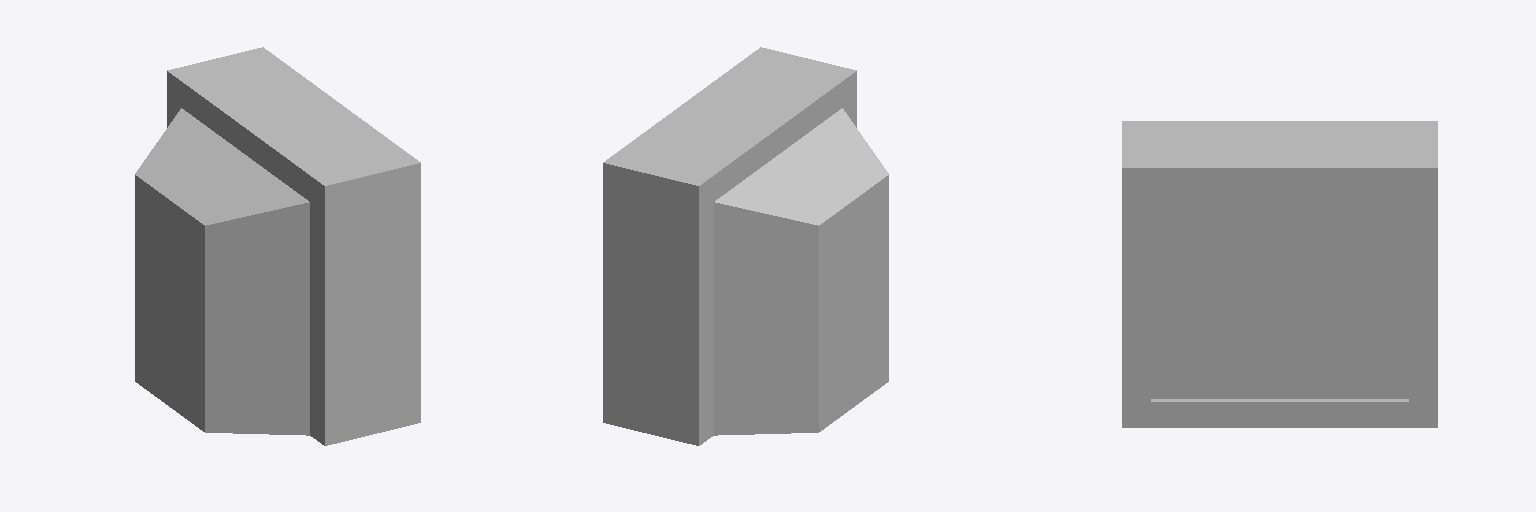
Rendered from brokentv.obj.
3 renders of one model, left to right at view 1: azimuth 30°, elevation 25°; view 2: azimuth 150°, elevation 25°; view 3: azimuth 270°, elevation 25°, orthographic.
Parts seen in each view (by area): view 1: screen; view 2: screen; view 3: screen.
Boxes of the visible parts, x1=… form: screen: x1=135, y1=47, x2=420, y2=445; screen: x1=603, y1=47, x2=888, y2=445; screen: x1=1122, y1=121, x2=1437, y2=427.
Size of the model in its own units: 34 by 49 by 54.